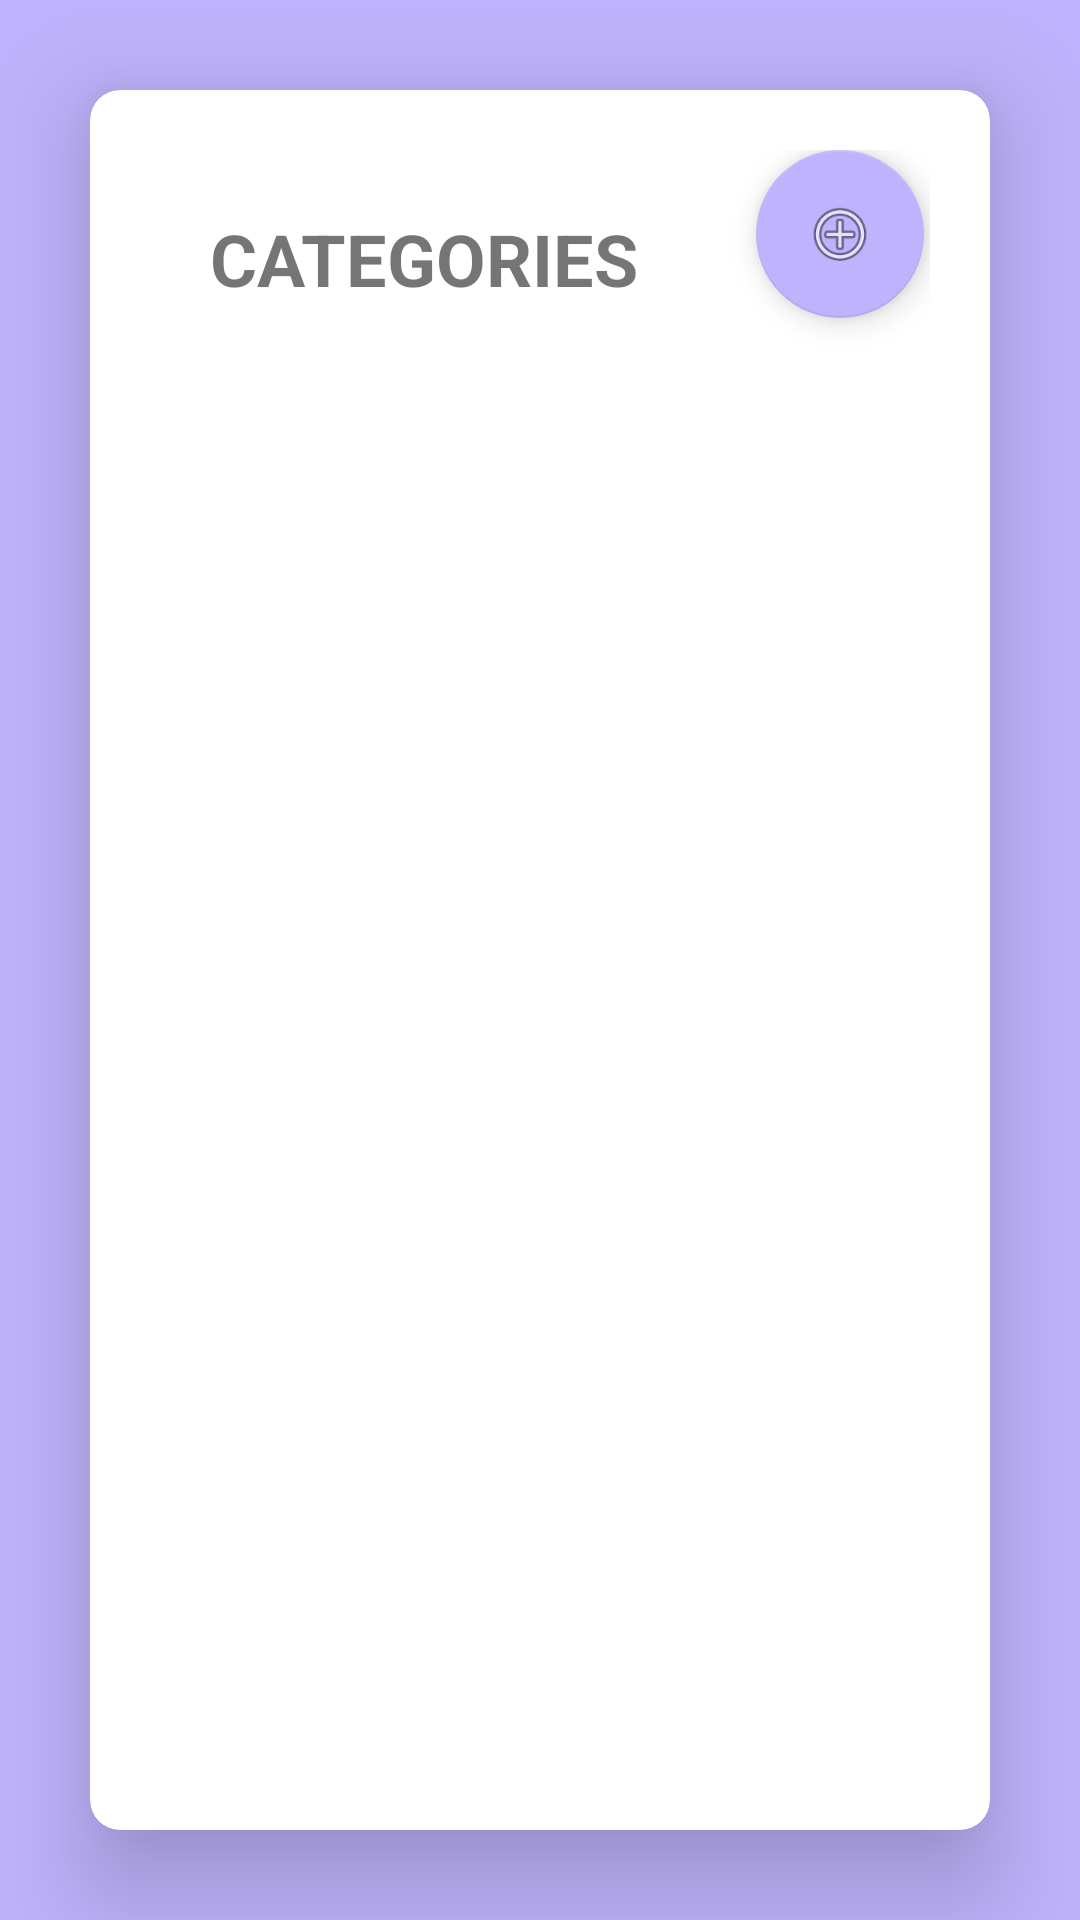

Locate icon controls on the screen. Image size 1080 x 1920, boxes as (x1, y1, x2, y2).
add: (756, 150, 924, 318)
